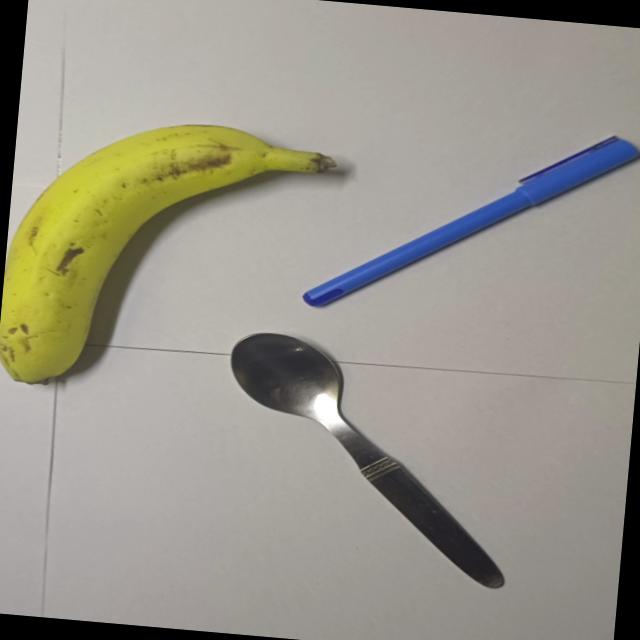Banana-Bio: (0, 100, 339, 411)
Pen-NonBio: (298, 104, 640, 338)
Steel-NonBio: (206, 324, 528, 592)
